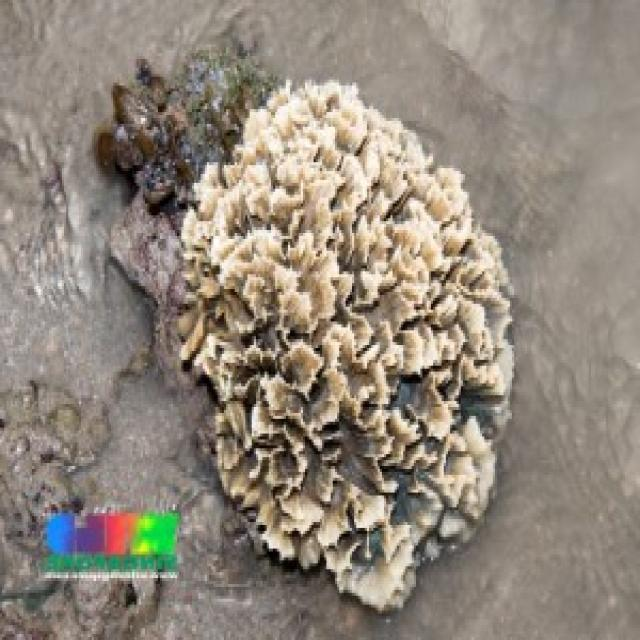Bleached: (182, 81, 516, 597)
Healthy: (89, 50, 245, 181)
